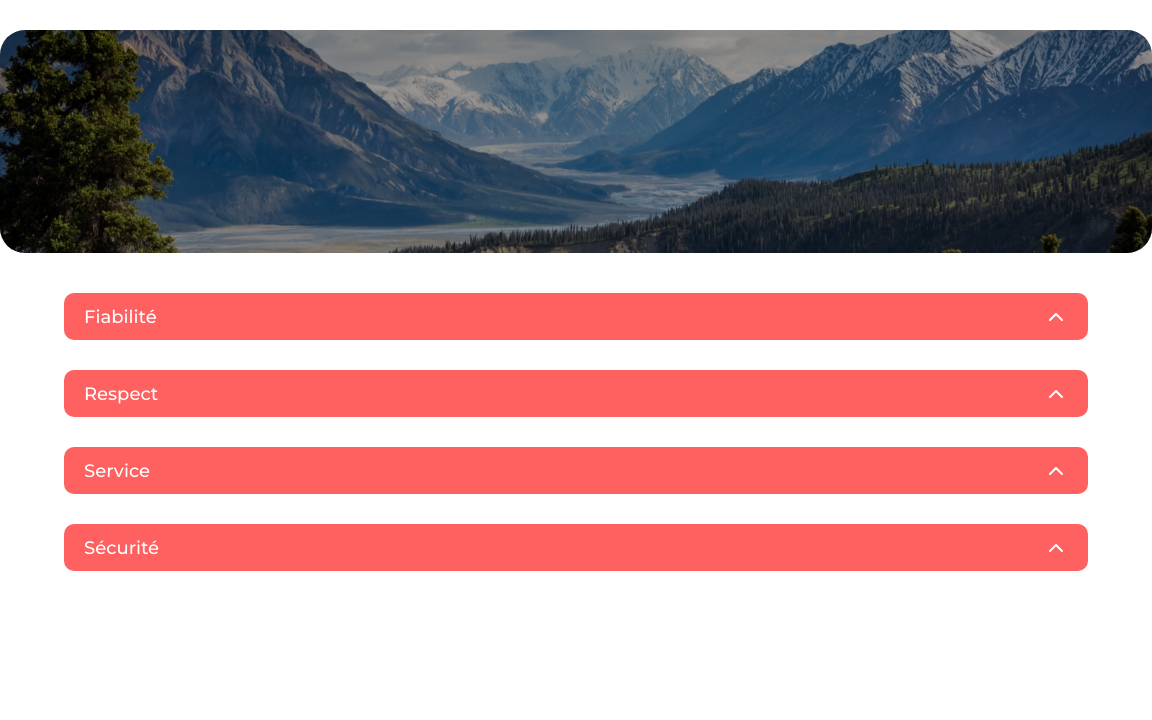
Test: About › lists the four Kasa values and reveals one on click
The width and height of the screenshot is (1152, 720).
Expected: the button "Respect" is shown, [64,370,1088,417]
Expected: the button "Service" is shown, [64,447,1088,494]
What coordinates should you click on to do the following:
click the button "Fiabilité"
I would click on:
 (120, 316)
Its box is [64,293,1088,340].
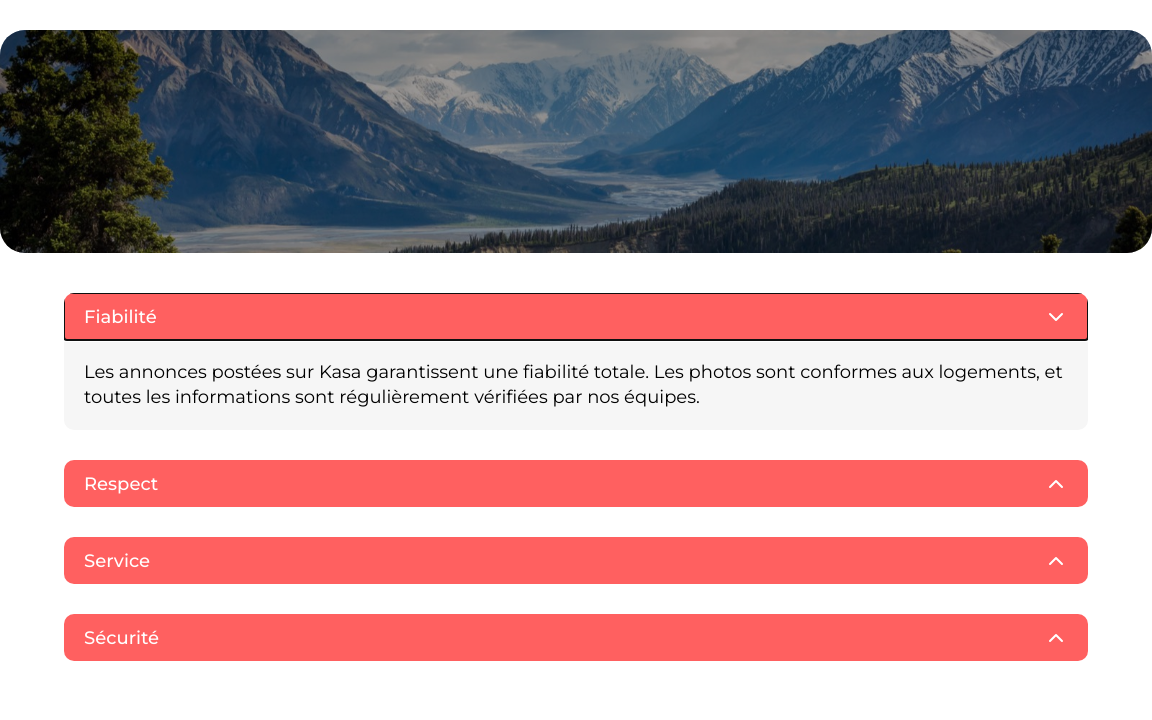
Expected: the button "Fiabilité" is expanded, [64,293,1088,340]
Expected: the text "fiabilité totale" is shown, [84,361,1063,408]
